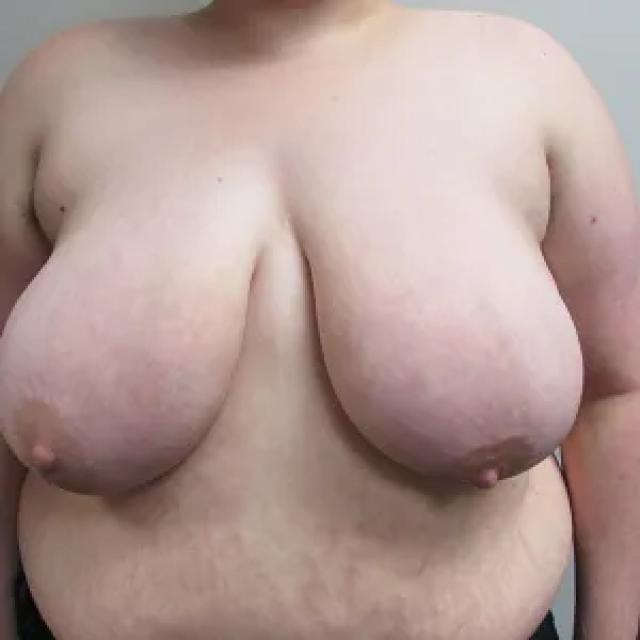Seno ileso: (285, 174, 592, 516), (0, 175, 275, 520)
